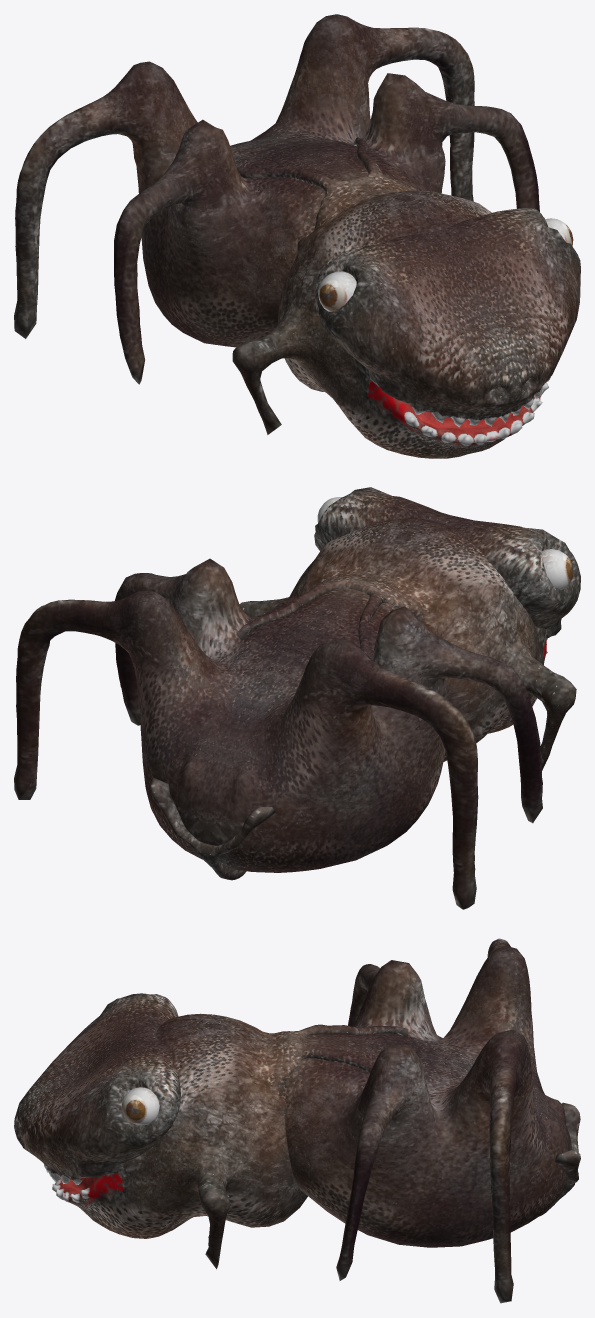
Rendered from spider.glb.
The picture shows the model from 3 angles, top to bottom: view 1: azimuth 30°, elevation 25°; view 2: azimuth 150°, elevation 25°; view 3: azimuth 270°, elevation 25°; orthographic projection. The views are drawn at different scales.
Visible parts, largest first — view 1: Spider.001; view 2: Spider.001; view 3: Spider.001.
Boxes of the visible parts, x1,y1,x2,y2 form: Spider.001: [14, 14, 580, 458]; Spider.001: [14, 487, 580, 909]; Spider.001: [14, 938, 580, 1303].
Bounding box in the file's own units: 1.69 × 0.9073 × 2.
Materials: 1 (1 with a texture image).
